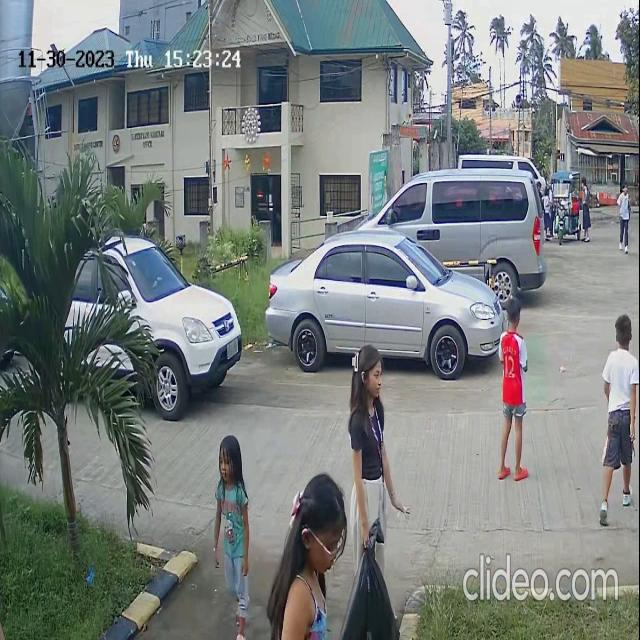garbage: (342, 522, 406, 628)
person: (274, 465, 344, 595), (340, 335, 400, 481), (208, 432, 258, 530), (499, 306, 532, 402), (604, 311, 640, 398)
